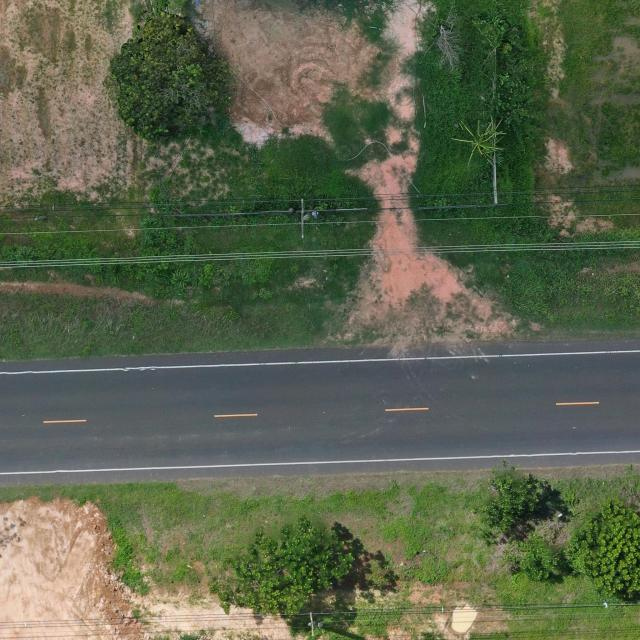Tree: (102, 16, 222, 145), (208, 513, 356, 616), (562, 495, 640, 601), (469, 457, 553, 545), (448, 112, 508, 166), (520, 546, 561, 584)
